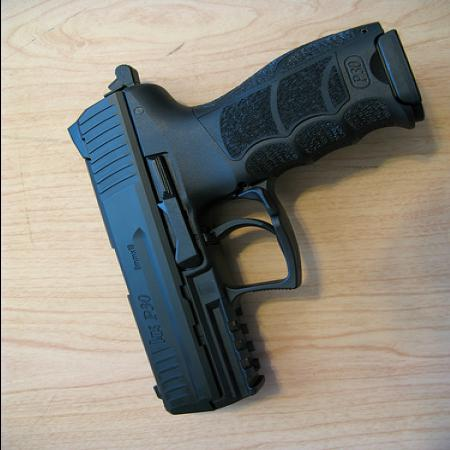Pistol: (66, 19, 419, 419)
